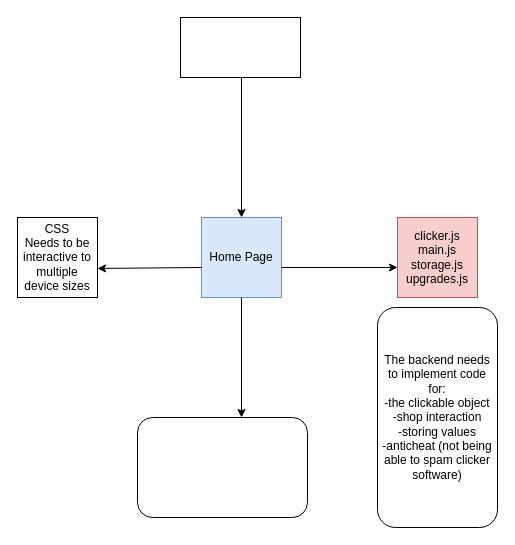
Some shapes in this 515 by 545 pixel diagram are drawn without their labels. The centre of each missing label's shape, as x and y in pixels:
"-Click Sounds -Background music" goes at pixel 240 47.
"Design: responsible for creating all images (background, character etc)" goes at pixel 222 467.
